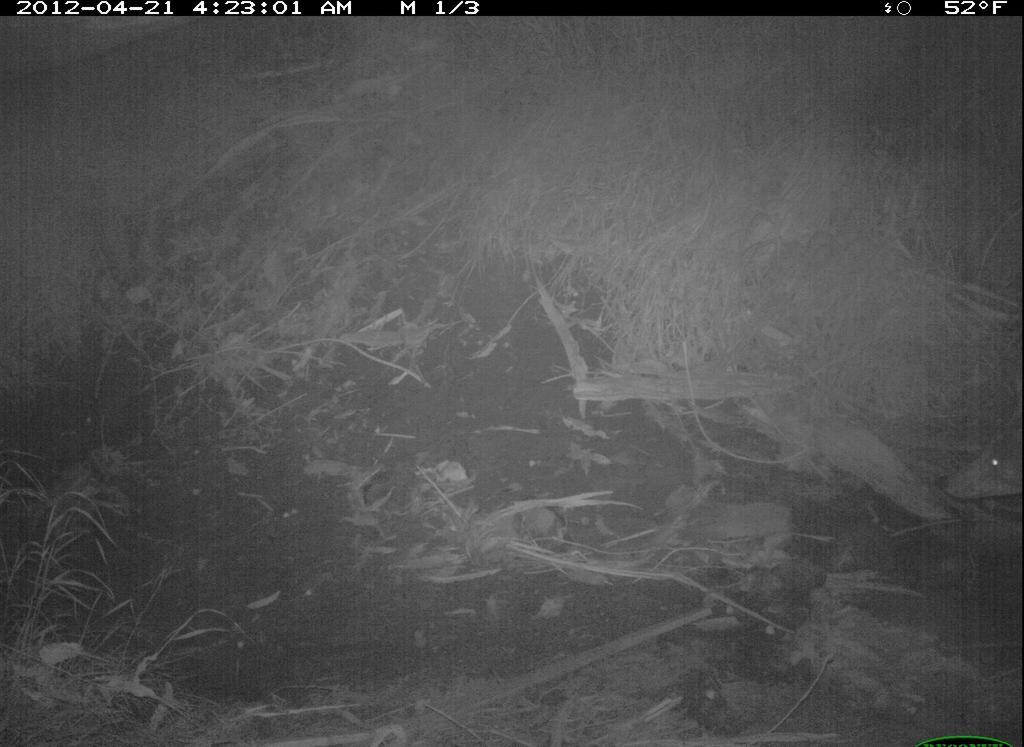coyote: (937, 418, 1023, 510)
